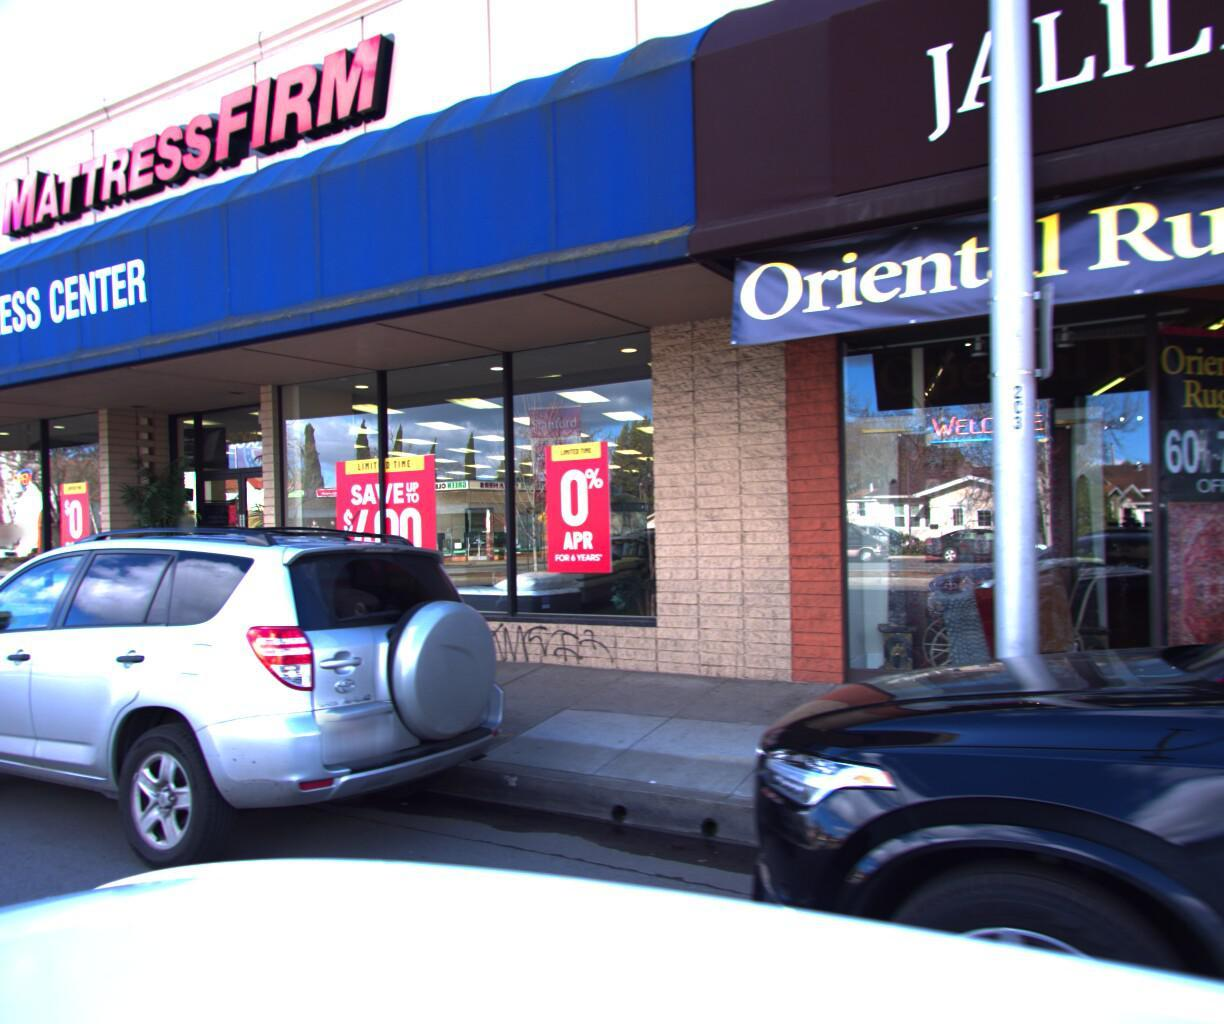car: (0, 513, 550, 935)
